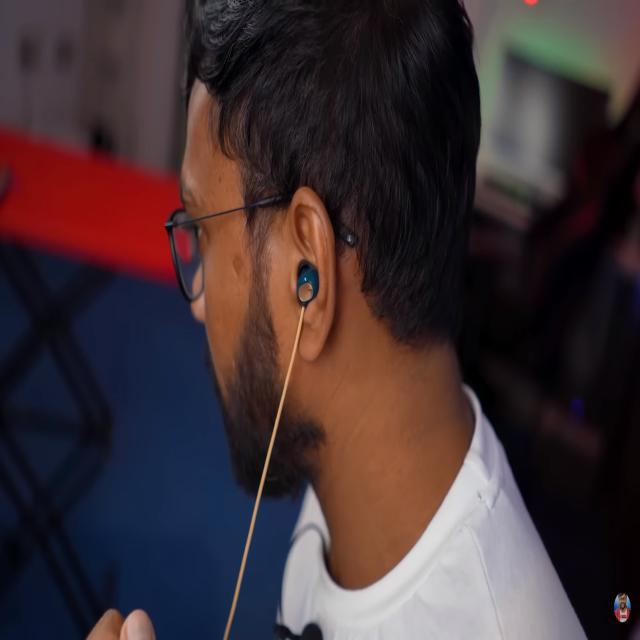Neckband: (222, 256, 320, 640)
